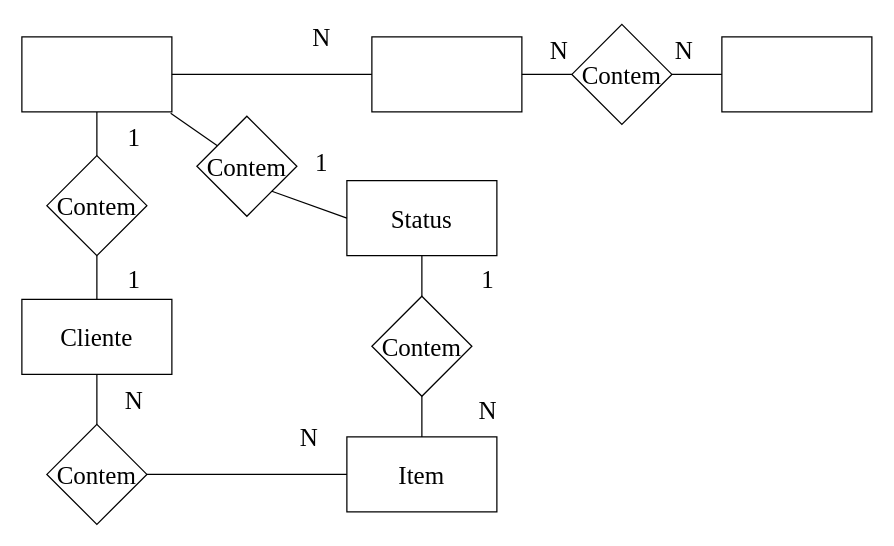
Some shapes in this 894 by 546 pixel diagram are drawn without their labels. Each missing label, with the box of its shape:
Conserto: (21, 36, 172, 112)
Funcao: (721, 36, 872, 112)
Funcionario: (371, 36, 522, 112)
